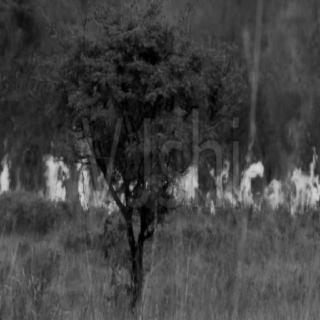Fire: (2, 151, 10, 193)
